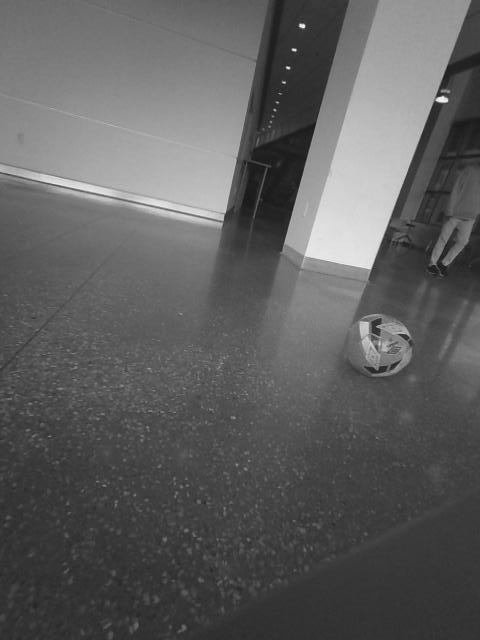ball: (344, 311, 418, 382)
